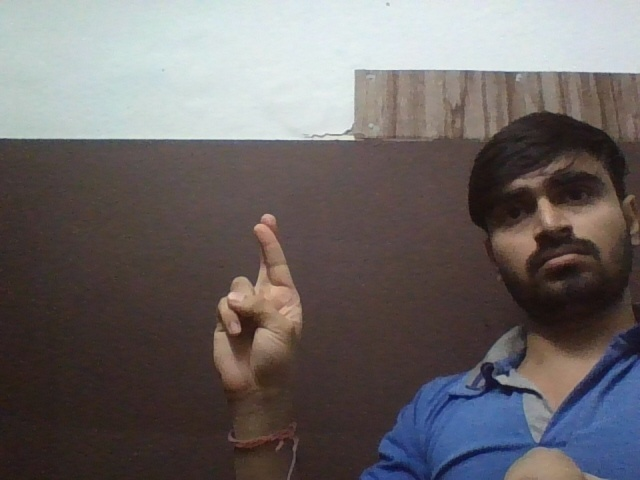R: (201, 209, 335, 411)
